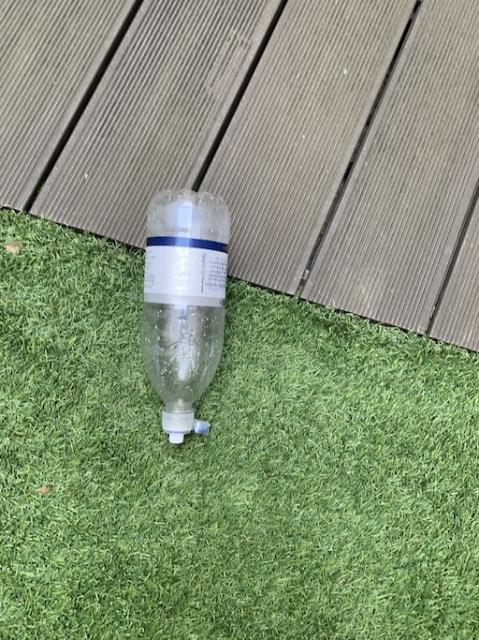plastic: (141, 188, 229, 441)
